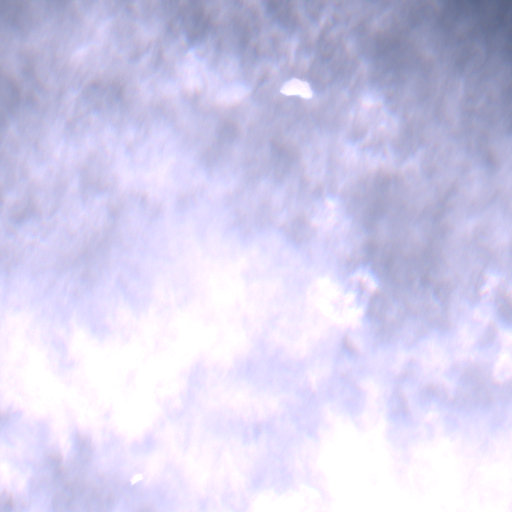Iceberg: (281, 78, 310, 97), (131, 474, 141, 483)
